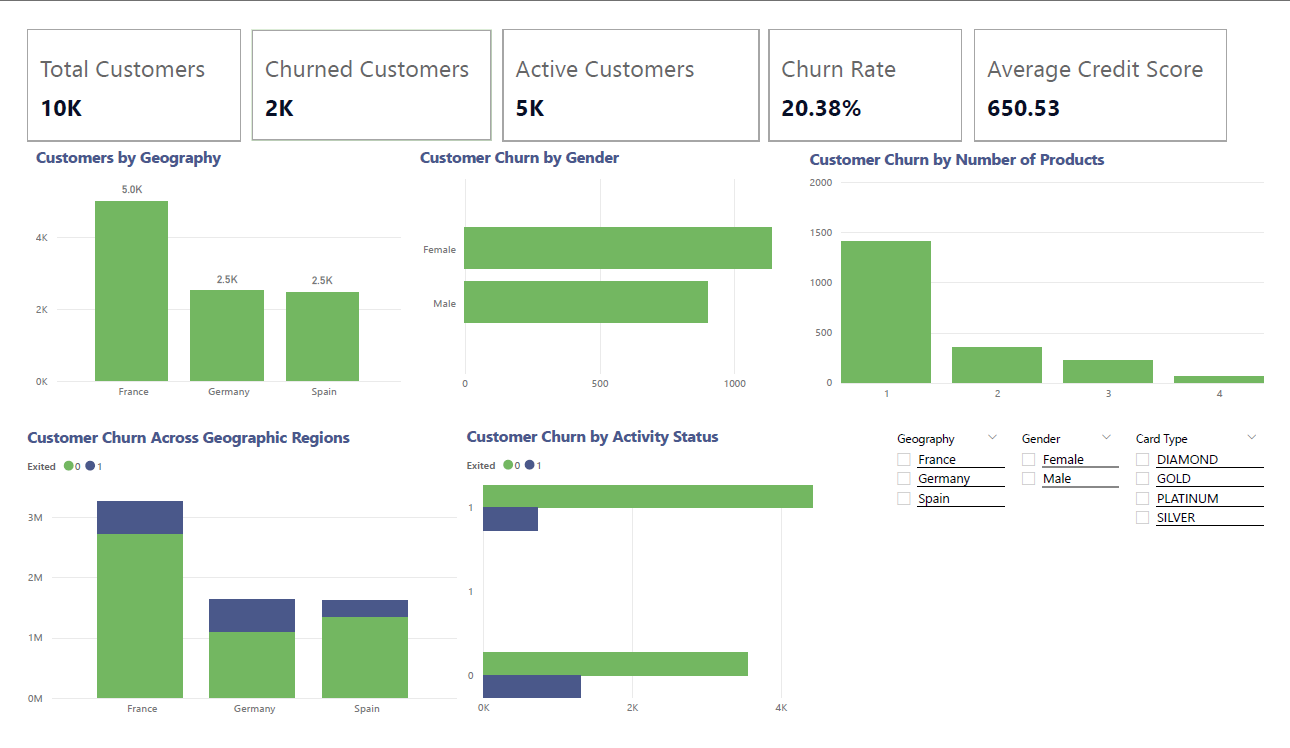

The dashboard page shown, as its layout file describes it:
{"tool":"powerbi","page":{"name":"Bank Customer Churn Dashboard","canvas":[1280,720],"ordinal":0},"visuals":[{"type":"cardVisual","fields":{"Data":["Bank_data.Churned Customers"]},"box":[230,0,257.6,125.2],"z":1000},{"type":"cardVisual","fields":{"Data":["Bank_data.Active Customers"]},"box":[487.6,0,273.6,125.2],"z":2000},{"type":"cardVisual","fields":{"Data":["Bank_data.Churn Rate"]},"box":[761.3,0,208.1,125.2],"z":3000},{"type":"cardVisual","fields":{"Data":["Bank_data.Average Credit Score"]},"box":[972.3,0,269.3,125.2],"z":4000},{"type":"clusteredColumnChart","title":"Customers by Geography","fields":{"Category":["Bank_data.Geography"],"Y":["Bank_data.Total Customers"]},"box":[8.7,125.2,384.3,269.3],"z":5000},{"type":"clusteredBarChart","title":"Customer Churn by Gender","fields":{"Category":["Bank_data.Gender"],"Y":["Sum(Bank_data.Exited)"]},"box":[403.2,125.2,400.3,260.5],"z":6000},{"type":"clusteredColumnChart","title":"Customer Churn by Number of Products","fields":{"Category":["Bank_data.NumOfProducts"],"Y":["Sum(Bank_data.Exited)"]},"box":[803.5,126.6,476,269.3],"z":7000},{"type":"columnChart","title":"Customer Churn Across Geographic Regions","fields":{"Category":["Bank_data.Geography"],"Y":["Sum(Bank_data.CreditScore)"],"Series":["Bank_data.Exited"]},"box":[0,415,450,305],"z":8000},{"type":"clusteredBarChart","title":"Customer Churn by Activity Status","fields":{"Category":["Bank_data.IsActiveMember"],"Y":["CountNonNull(Bank_data.CreditScore)"],"Series":["Bank_data.Exited"]},"box":[451.2,411.9,414.8,305.7],"z":9000},{"type":"slicer","fields":{"Values":["Bank_data.Geography"]},"box":[885,412,128,112],"z":10000},{"type":"slicer","fields":{"Values":["Bank_data.Gender"]},"box":[1013.1,411.9,116.4,120.8],"z":11000},{"type":"slicer","fields":{"Values":["Bank_data.Card Type"]},"box":[1129.5,411.9,149.9,174.7],"z":12000},{"type":"cardVisual","fields":{"Data":["Bank_data.Total Customers"]},"box":[0,0,230,125.2],"z":12001}]}

Visuals, with their boxes in screenshot pixels (x1, y1, x2, y2), scaled from the page's 1280x720 canvas onto the 1290x748 screenshot:
cardVisual - Bank_data.Churned Customers: 232/0/491/130
cardVisual - Bank_data.Active Customers: 491/0/767/130
cardVisual - Bank_data.Churn Rate: 767/0/977/130
cardVisual - Bank_data.Average Credit Score: 980/0/1251/130
"Customers by Geography" clusteredColumnChart: 9/130/396/410
"Customer Churn by Gender" clusteredBarChart: 406/130/810/401
"Customer Churn by Number of Products" clusteredColumnChart: 810/132/1289/411
"Customer Churn Across Geographic Regions" columnChart: 0/431/454/747
"Customer Churn by Activity Status" clusteredBarChart: 455/428/873/746
slicer - Bank_data.Geography: 892/428/1021/544
slicer - Bank_data.Gender: 1021/428/1138/553
slicer - Bank_data.Card Type: 1138/428/1289/609
cardVisual - Bank_data.Total Customers: 0/0/232/130
